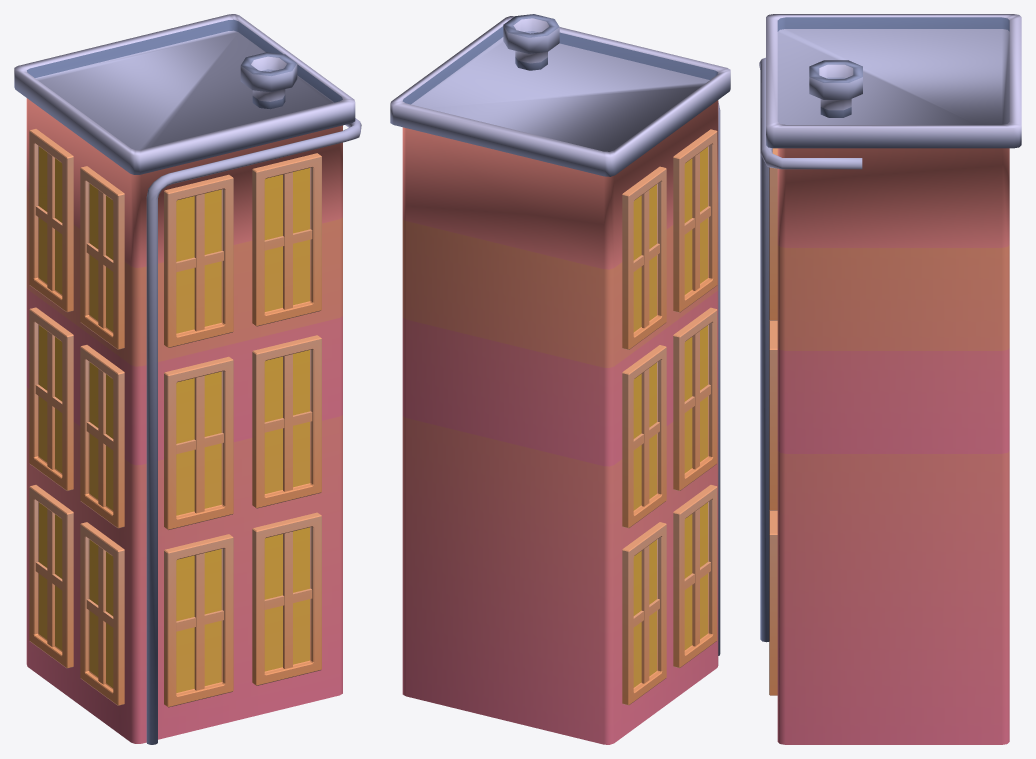
Rendered from BAT3.fbx.
The picture shows the model from 3 angles, left to right: view 1: azimuth 30°, elevation 25°; view 2: azimuth 150°, elevation 25°; view 3: azimuth 270°, elevation 25°; orthographic projection. The views are drawn at different scales.
Visible parts, largest first — view 1: Cube.020; view 2: Cube.020; view 3: Cube.020.
Boxes of the visible parts, x1=… form: Cube.020: x1=14, y1=14, x2=361, y2=744; Cube.020: x1=390, y1=14, x2=730, y2=744; Cube.020: x1=759, y1=14, x2=1021, y2=744.
Bounding box in the file's own units: 2383 × 6002 × 2201.
